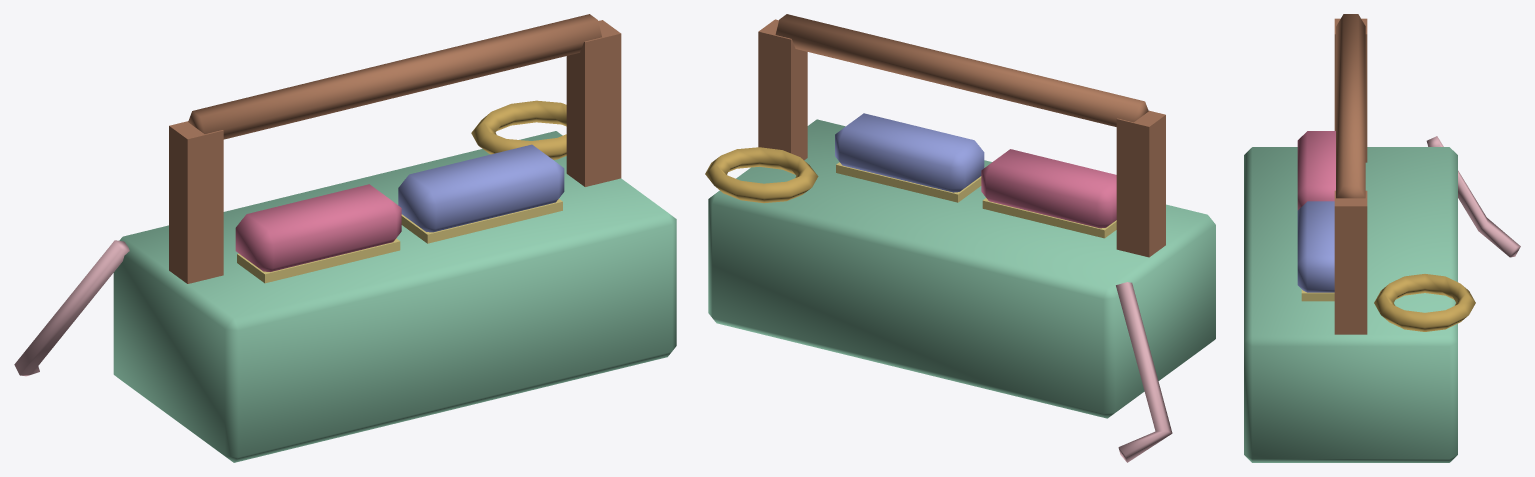
Rendered from grooming_kit.glb.
3 renders of one model, left to right at view 1: azimuth 30°, elevation 25°; view 2: azimuth 150°, elevation 25°; view 3: azimuth 270°, elevation 25°, orthographic. The views are drawn at different scales.
Parts seen in each view (by area): view 1: grooming_kit; view 2: grooming_kit; view 3: grooming_kit.
Boxes of the visible parts, bbox=[...] form: grooming_kit: bbox=[14, 14, 676, 462]; grooming_kit: bbox=[705, 14, 1215, 462]; grooming_kit: bbox=[1244, 14, 1520, 462].
Size of what is drawn, in the model's own units: 0.6 by 0.33 by 0.3.
